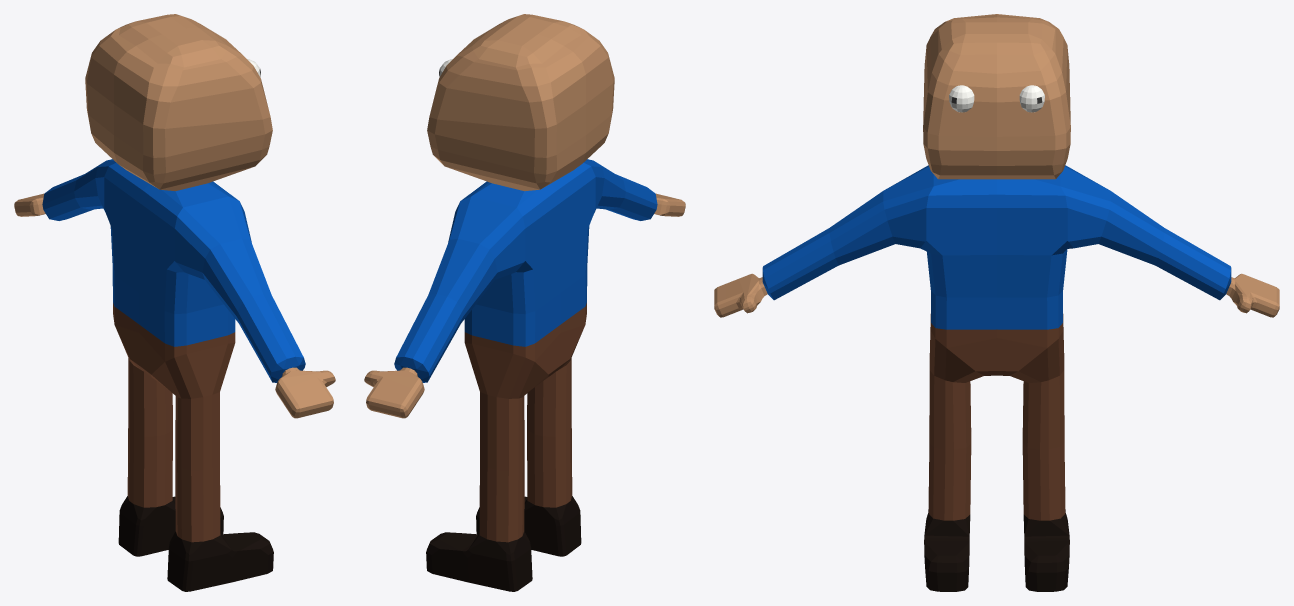
The picture shows the model from 3 angles, left to right: view 1: azimuth 30°, elevation 25°; view 2: azimuth 150°, elevation 25°; view 3: azimuth 270°, elevation 25°; orthographic projection.
Parts seen in each view (by area): view 1: player; view 2: player; view 3: player.
Boxes of the visible parts, x1=… form: player: x1=14, y1=14, x2=335, y2=591; player: x1=364, y1=14, x2=685, y2=591; player: x1=714, y1=14, x2=1279, y2=591.
Size of the model in its own units: 43.79 by 172 by 166.
1 material, 1 textured.
